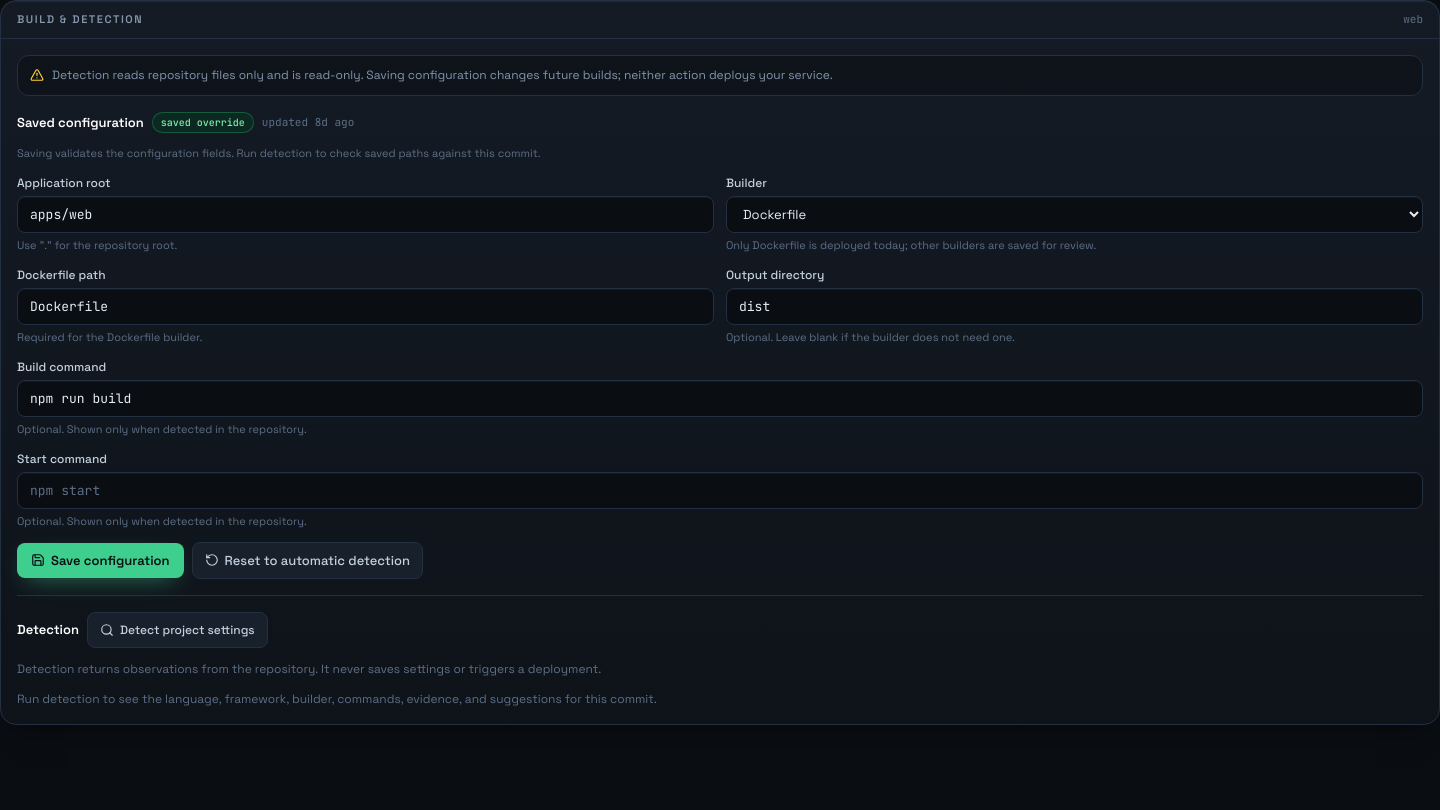
Test: BuildConfigPanel › edits and saves configuration, then refreshes from the server
Expected: the field showing "apps/web" is shown, [17,196,714,233]
Type "npm run build:prod" into the field labelled "Build command". click: (720, 398)
box: [17,380,1423,417]
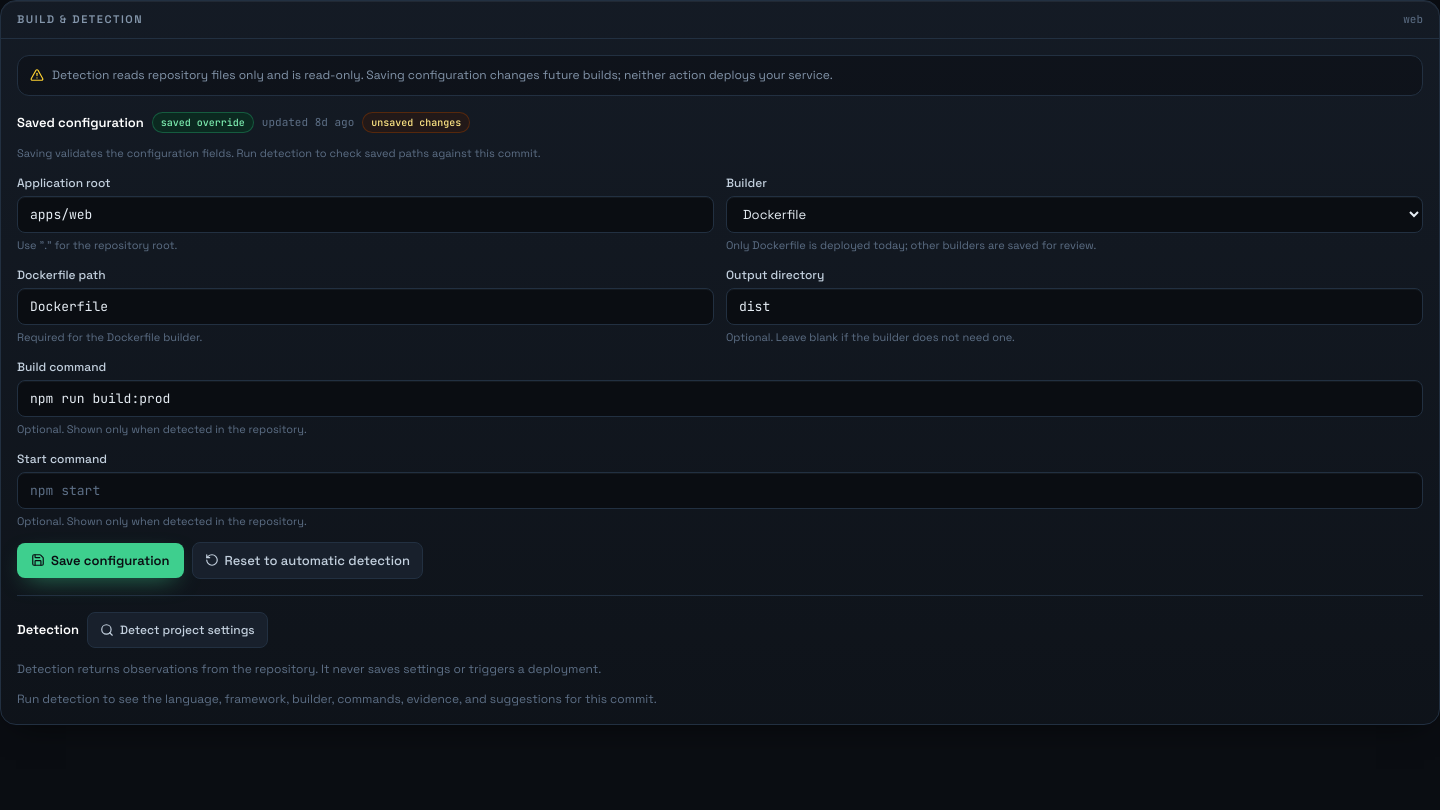
Click the button "Save configuration". click: (100, 560)
box: [17,542,184,578]
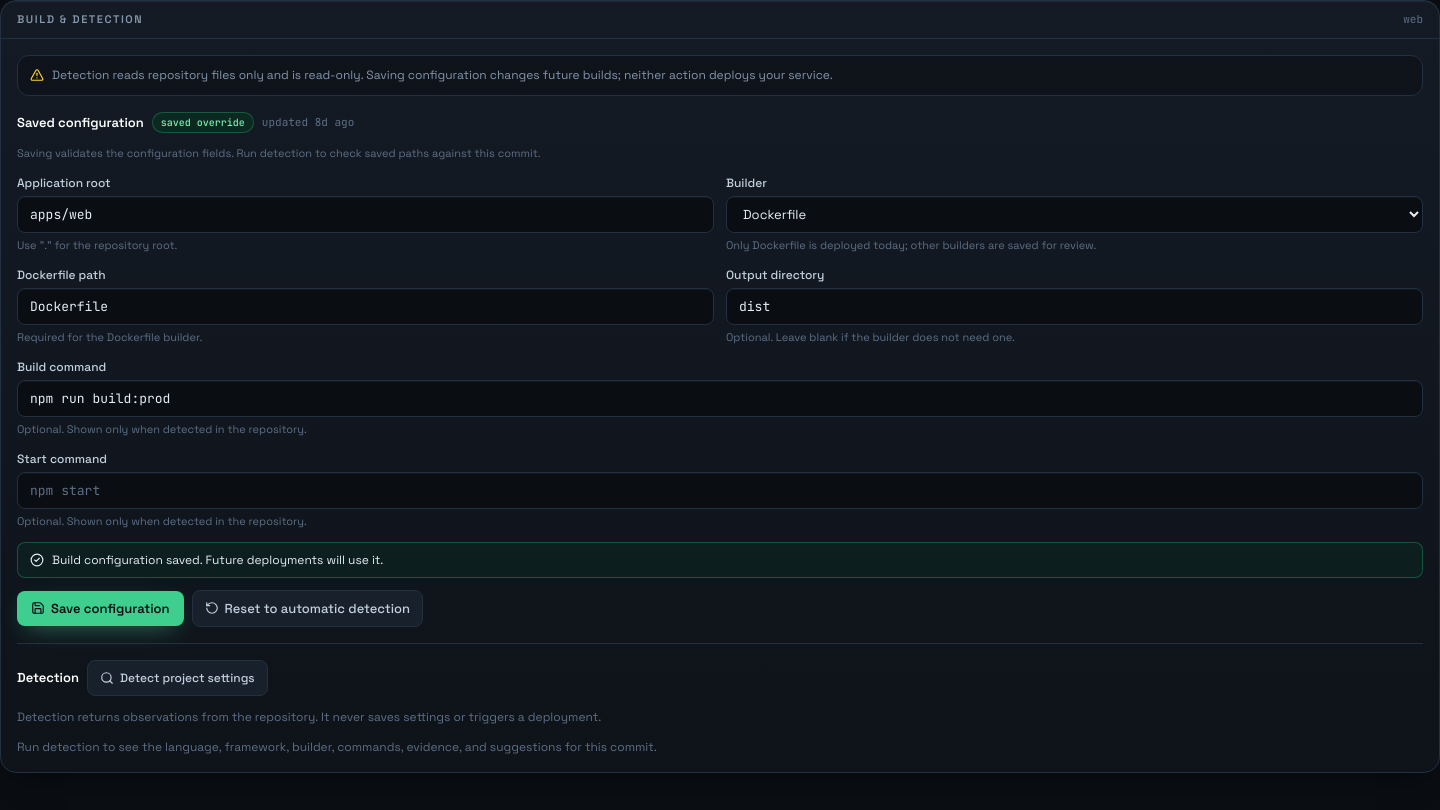
Now the text "Build configuration saved. Future deployments will use it." is shown, box [17,542,1423,578]
